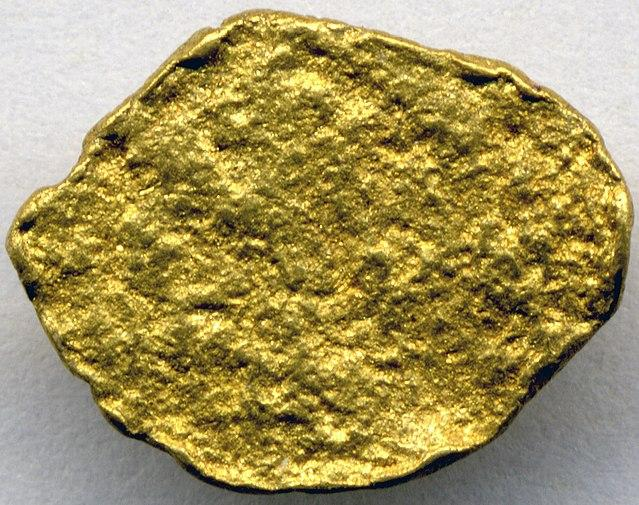gold: (5, 6, 636, 493)
